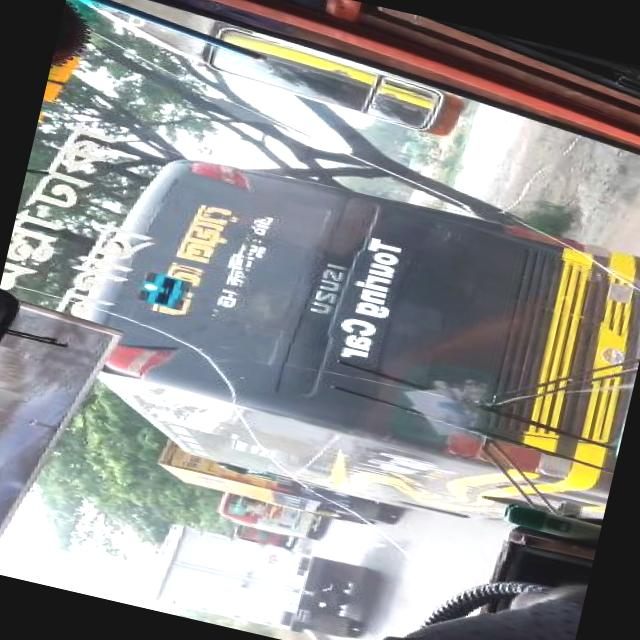bus: (97, 140, 640, 545), (218, 489, 322, 538), (229, 520, 288, 546)
truck: (138, 515, 370, 640), (158, 444, 393, 532)
